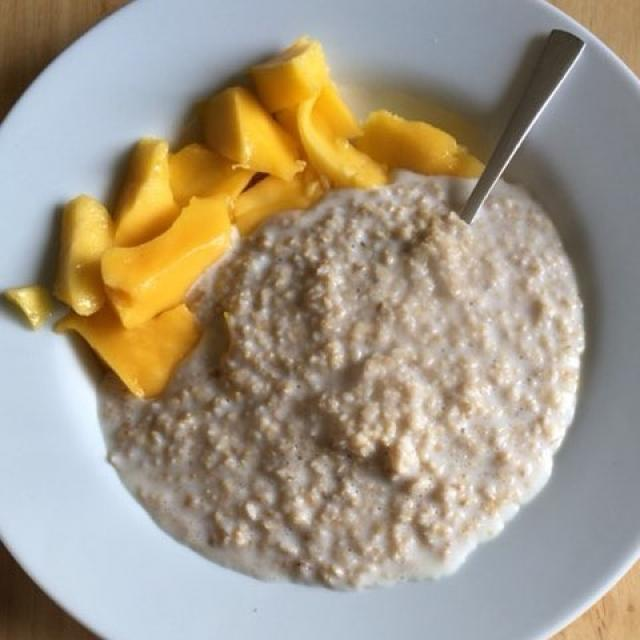mango: (0, 41, 492, 398)
porridge: (106, 193, 591, 582)
